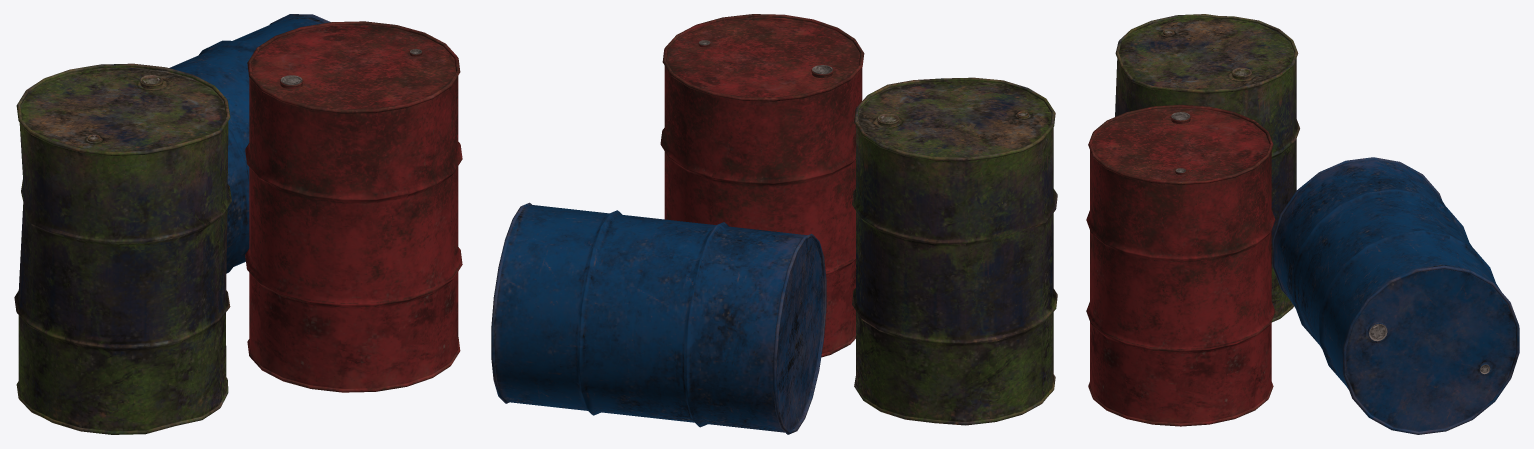
Rendered from drum_pile_01.glb.
3 renders of one model, left to right at view 1: azimuth 30°, elevation 25°; view 2: azimuth 150°, elevation 25°; view 3: azimuth 270°, elevation 25°, orthographic. The views are drawn at different scales.
Parts seen in each view (by area): view 1: Blue_Cap_L_low_Mat_Oil_Drum_Blue_0; view 2: Blue_Cap_L_low_Mat_Oil_Drum_Blue_0; view 3: Blue_Cap_L_low_Mat_Oil_Drum_Blue_0.
Part boxes in pixels (x1,y1,x2,y2): Blue_Cap_L_low_Mat_Oil_Drum_Blue_0: [14, 14, 462, 434]; Blue_Cap_L_low_Mat_Oil_Drum_Blue_0: [491, 14, 1057, 434]; Blue_Cap_L_low_Mat_Oil_Drum_Blue_0: [1086, 14, 1519, 434].
Bounding box in the file's own units: 1.67 × 1 × 1.6.
Materials: 3 (3 with a texture image).
